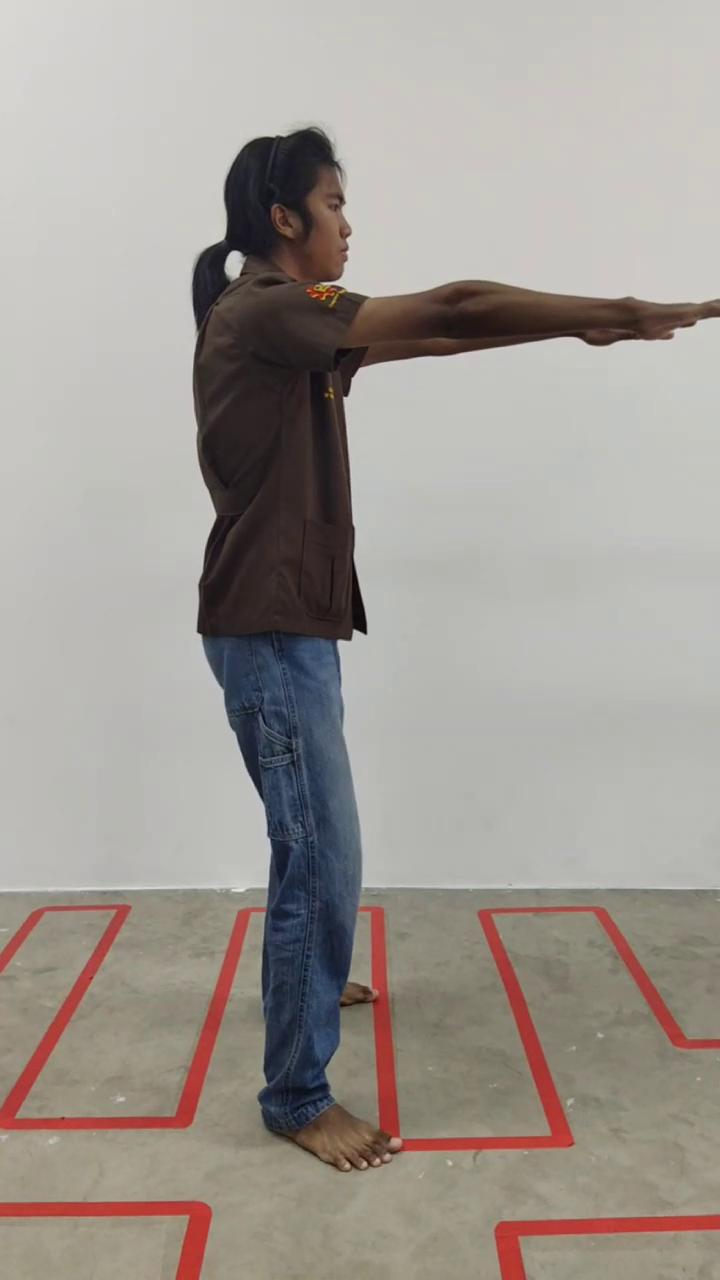squat up: (193, 125, 697, 1178)
